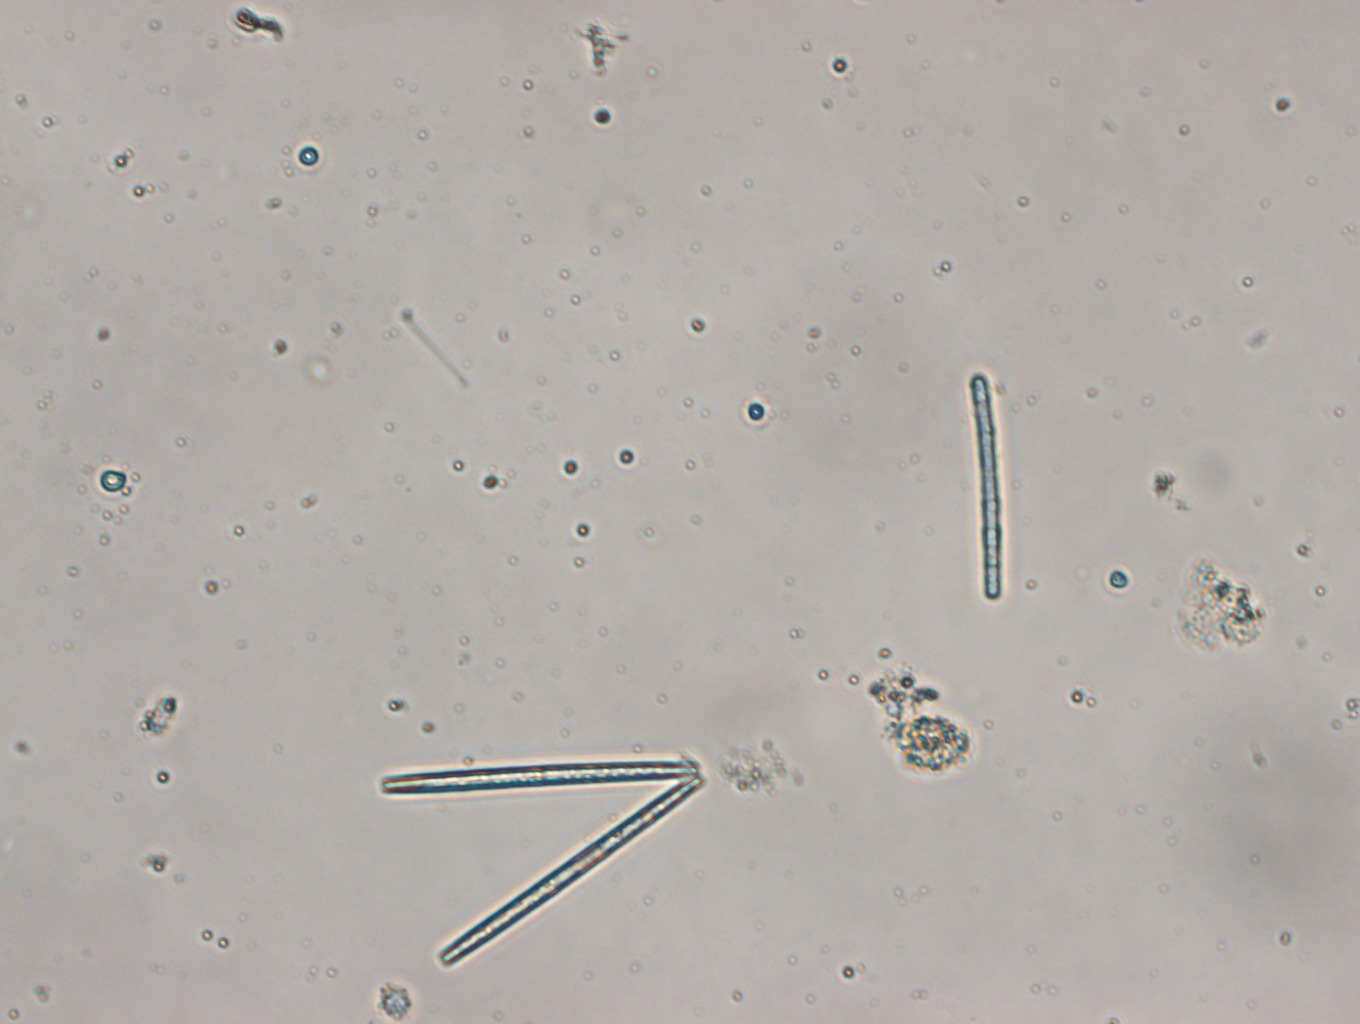thalassionema nitzschioides: (374, 750, 722, 975)
